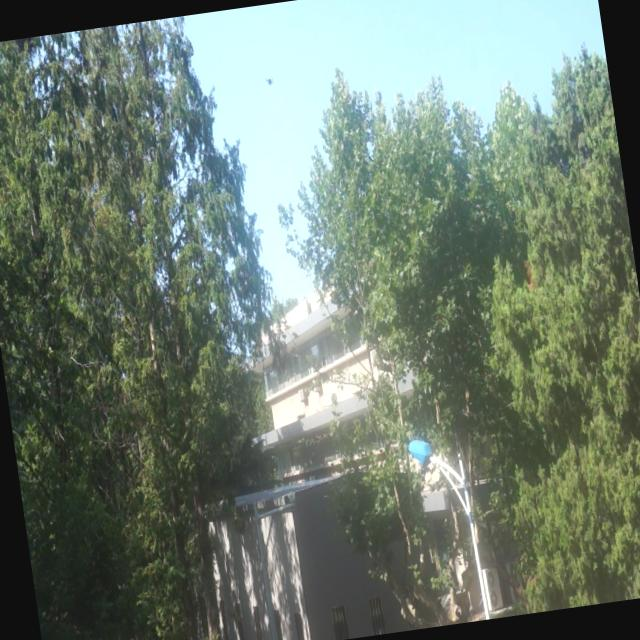drone: (262, 72, 278, 89)
